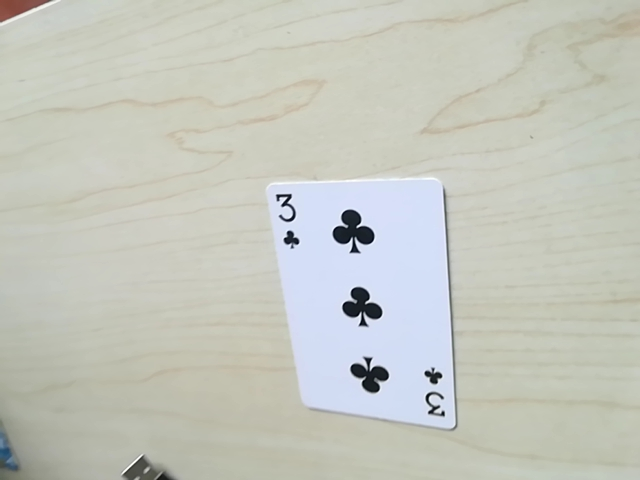mh 3: (267, 189, 306, 253), (416, 360, 450, 426)
